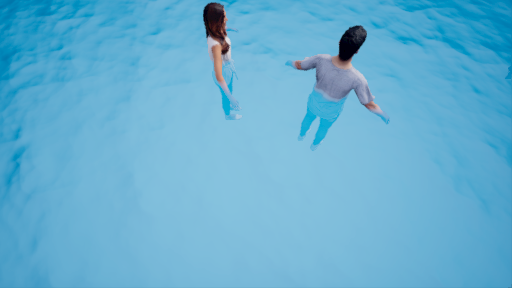person: (283, 24, 385, 148), (190, 4, 270, 123)
